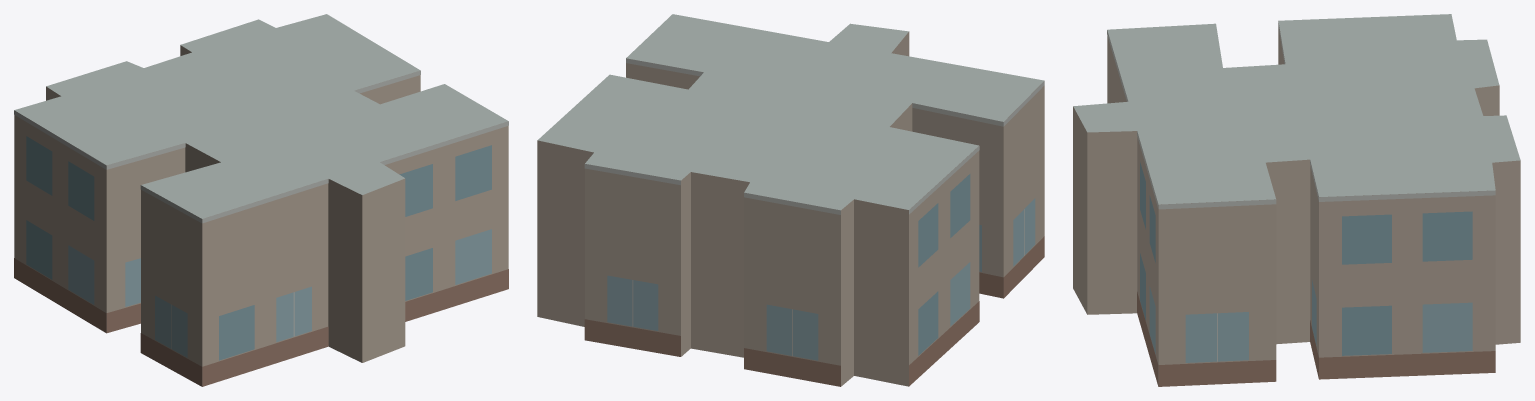
File: survey-upis-32843331.glb
The picture shows the model from 3 angles, left to right: view 1: azimuth 30°, elevation 25°; view 2: azimuth 150°, elevation 25°; view 3: azimuth 270°, elevation 25°; orthographic projection. The views are drawn at different scales.
Visible parts, largest first — view 1: survey-upis-32843331.tmp; view 2: survey-upis-32843331.tmp; view 3: survey-upis-32843331.tmp.
Boxes of the visible parts, bbox=[...] form: survey-upis-32843331.tmp: bbox=[14, 14, 508, 386]; survey-upis-32843331.tmp: bbox=[537, 14, 1044, 386]; survey-upis-32843331.tmp: bbox=[1073, 14, 1520, 386].
Bounding box in the file's own units: 20.29 × 9.05 × 20.14.
